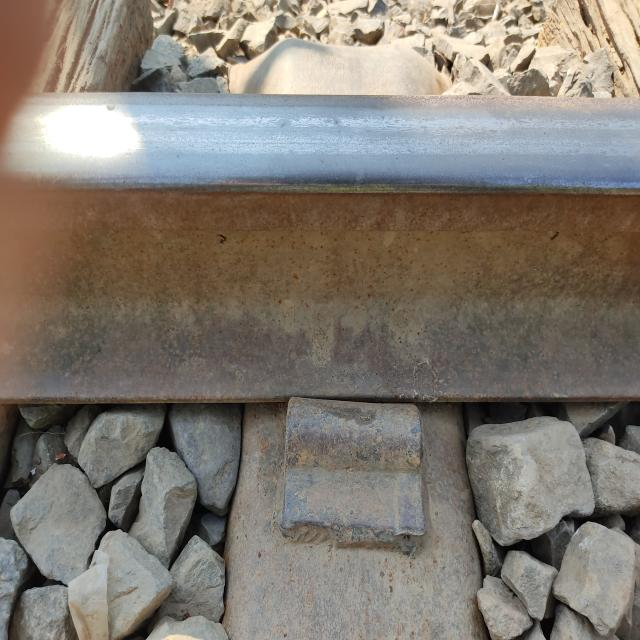defective: (215, 185, 494, 622)
